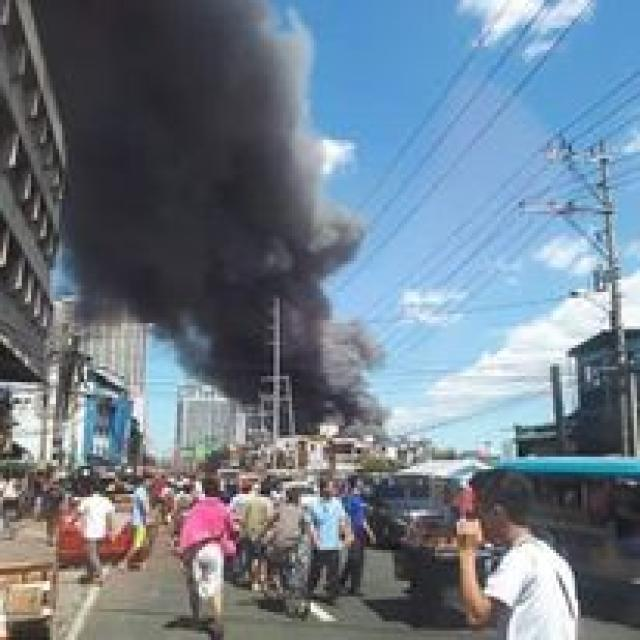Smoke: (22, 0, 399, 442)
